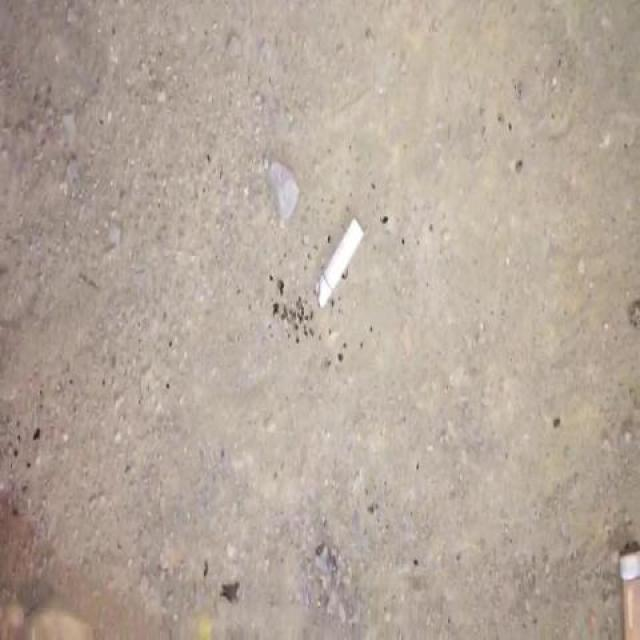non-organic waste: (311, 215, 368, 312)
